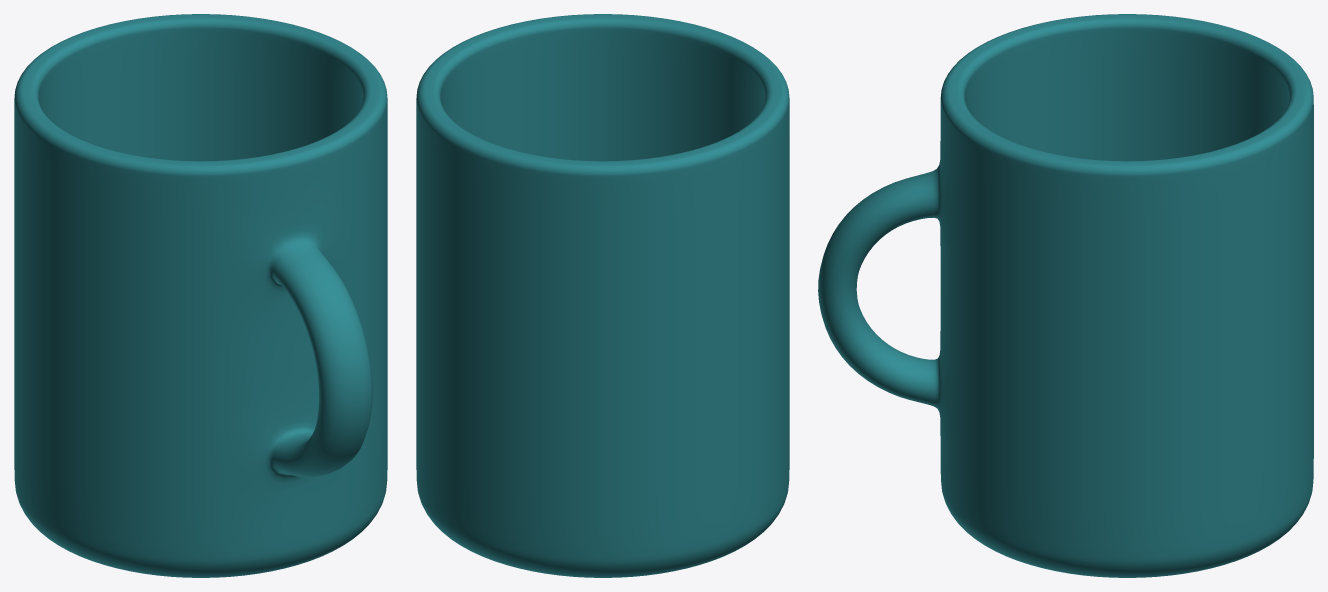
The model's file is obj_cup_for_breakfast_ef7eb9.glb.
3 views of the same model, side by side, from view 1: azimuth 30°, elevation 25°; view 2: azimuth 150°, elevation 25°; view 3: azimuth 270°, elevation 25° (orthographic).
Visible parts, largest first — view 1: obj_cup_for_breakfast_ef7eb9; view 2: obj_cup_for_breakfast_ef7eb9; view 3: obj_cup_for_breakfast_ef7eb9.
Boxes of the visible parts, x1,y1,x2,y2 form: obj_cup_for_breakfast_ef7eb9: (14, 14, 387, 577); obj_cup_for_breakfast_ef7eb9: (416, 14, 789, 577); obj_cup_for_breakfast_ef7eb9: (818, 14, 1313, 577).
Size of the model in its own units: 0.0724 by 0.09 by 0.0961.
